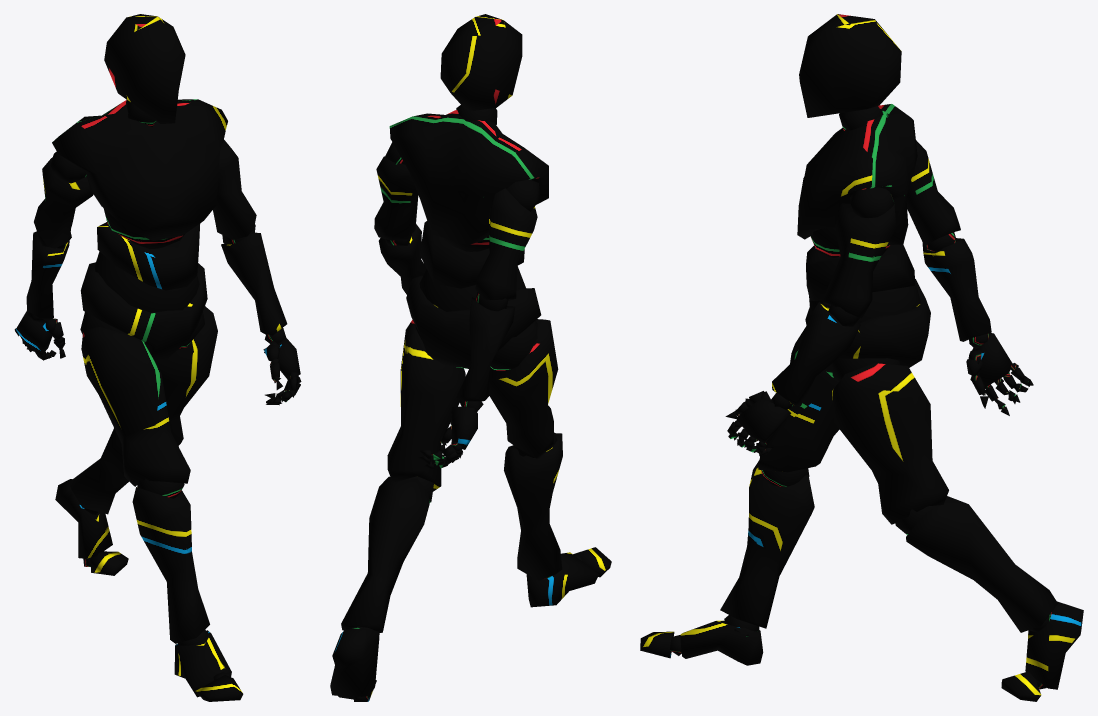
File: y-bot-origin_000008.obj
3 renders of one model, left to right at view 1: azimuth 30°, elevation 25°; view 2: azimuth 150°, elevation 25°; view 3: azimuth 270°, elevation 25°, orthographic. The views are drawn at different scales.
Parts seen in each view (by area): view 1: Alpha_Surface_Alpha_SurfaceMesh, Alpha_Joints_Alpha_JointsMesh; view 2: Alpha_Surface_Alpha_SurfaceMesh, Alpha_Joints_Alpha_JointsMesh; view 3: Alpha_Surface_Alpha_SurfaceMesh, Alpha_Joints_Alpha_JointsMesh.
Part boxes in pixels (x1=…): Alpha_Surface_Alpha_SurfaceMesh: x1=16, y1=14, x2=300, y2=701; Alpha_Joints_Alpha_JointsMesh: x1=14, y1=100, x2=301, y2=680; Alpha_Surface_Alpha_SurfaceMesh: x1=330, y1=14, x2=611, y2=701; Alpha_Joints_Alpha_JointsMesh: x1=346, y1=105, x2=581, y2=701; Alpha_Surface_Alpha_SurfaceMesh: x1=640, y1=14, x2=1083, y2=701; Alpha_Joints_Alpha_JointsMesh: x1=670, y1=106, x2=1051, y2=689.
Size of the model in its own units: 0.5466 by 1.75 by 1.08.
